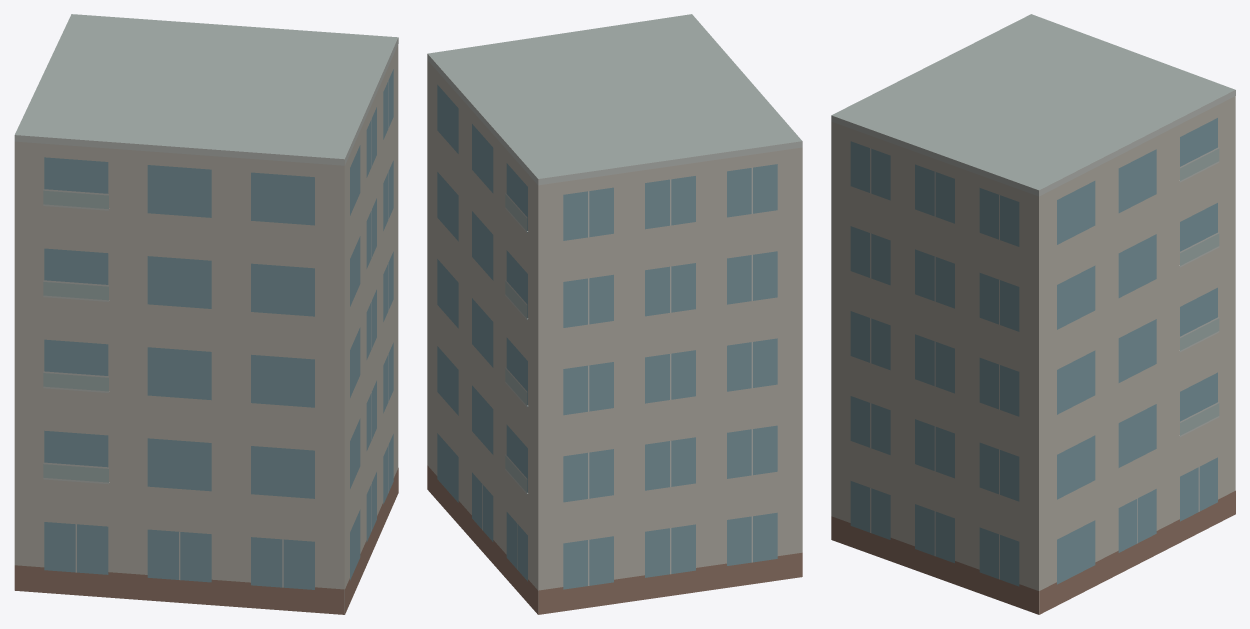
The model's file is survey-upis-32774900.glb.
3 views of the same model, side by side, from view 1: azimuth 30°, elevation 25°; view 2: azimuth 150°, elevation 25°; view 3: azimuth 270°, elevation 25° (orthographic). The views are drawn at different scales.
Parts seen in each view (by area): view 1: survey-upis-32774900.tmp; view 2: survey-upis-32774900.tmp; view 3: survey-upis-32774900.tmp.
Part boxes in pixels (box(x1,y1,x2,y2)): survey-upis-32774900.tmp: box(14, 14, 398, 614); survey-upis-32774900.tmp: box(427, 14, 802, 614); survey-upis-32774900.tmp: box(831, 14, 1235, 614).
Bounding box in the file's own units: 15.11 × 16.95 × 14.64.
